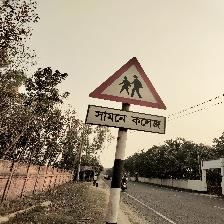College-in-front: (82, 49, 197, 156)
